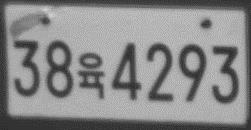2: (146, 42, 174, 103)
3: (211, 44, 240, 104), (13, 38, 40, 97)
4: (112, 40, 142, 101)
8: (45, 39, 72, 97)
9: (178, 43, 207, 101)
육: (78, 52, 105, 100)
